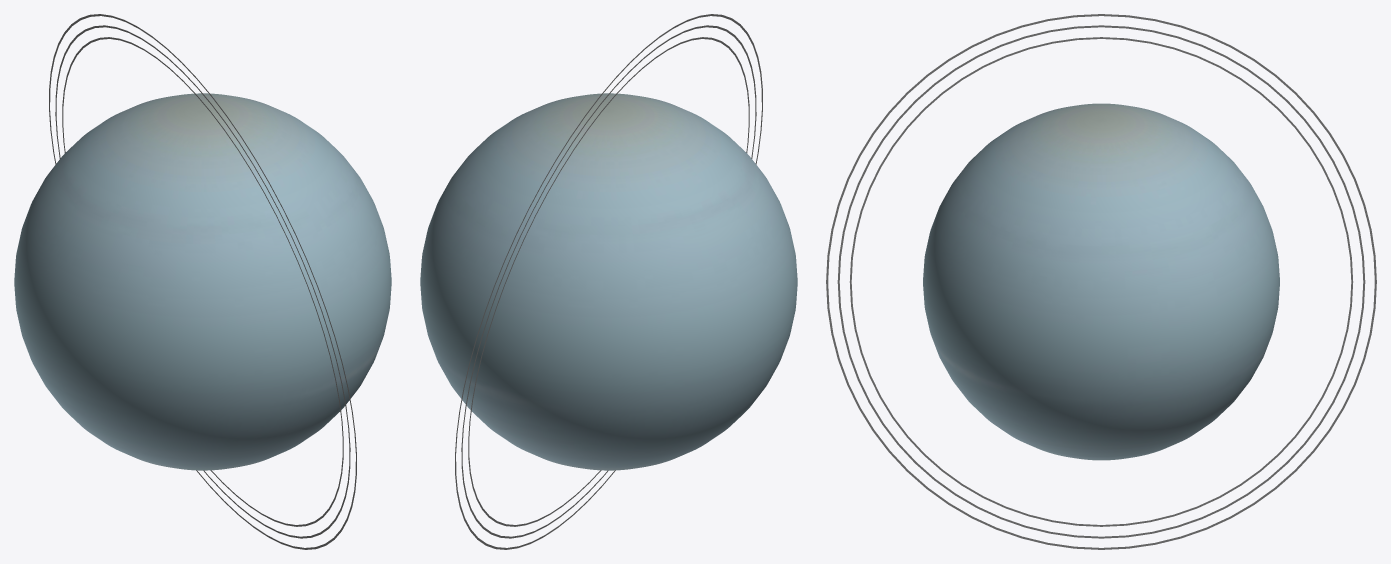
File: uranus.obj
3 views of the same model, side by side, from view 1: azimuth 30°, elevation 25°; view 2: azimuth 150°, elevation 25°; view 3: azimuth 270°, elevation 25° (orthographic). The views are drawn at different scales.
Visible parts, largest first — view 1: Sphere_Material.002_0_Sphere_Material.002_0.010, Circle_ring_0_Circle_ring_0.003, Circle.001_ring_0_Circle.001_ring_0.001, Circle.002_ring_0_Circle.002_ring_0.001; view 2: Sphere_Material.002_0_Sphere_Material.002_0.010, Circle_ring_0_Circle_ring_0.003, Circle.001_ring_0_Circle.001_ring_0.001, Circle.002_ring_0_Circle.002_ring_0.001; view 3: Sphere_Material.002_0_Sphere_Material.002_0.010, Circle_ring_0_Circle_ring_0.003, Circle.001_ring_0_Circle.001_ring_0.001, Circle.002_ring_0_Circle.002_ring_0.001.
Boxes of the visible parts, x1,y1,x2,y2 form: Sphere_Material.002_0_Sphere_Material.002_0.010: (14,93,391,470); Circle_ring_0_Circle_ring_0.003: (49,14,356,549); Circle.001_ring_0_Circle.001_ring_0.001: (55,25,350,538); Circle.002_ring_0_Circle.002_ring_0.001: (62,37,343,526); Sphere_Material.002_0_Sphere_Material.002_0.010: (420,93,797,470); Circle_ring_0_Circle_ring_0.003: (455,14,762,549); Circle.001_ring_0_Circle.001_ring_0.001: (461,25,756,538); Circle.002_ring_0_Circle.002_ring_0.001: (468,37,749,526); Sphere_Material.002_0_Sphere_Material.002_0.010: (923,103,1279,460); Circle_ring_0_Circle_ring_0.003: (826,14,1376,549); Circle.001_ring_0_Circle.001_ring_0.001: (837,25,1365,538); Circle.002_ring_0_Circle.002_ring_0.001: (849,37,1353,526).
Bounding box in the file's own units: 200 × 302 × 308.
2 materials, 1 textured.
